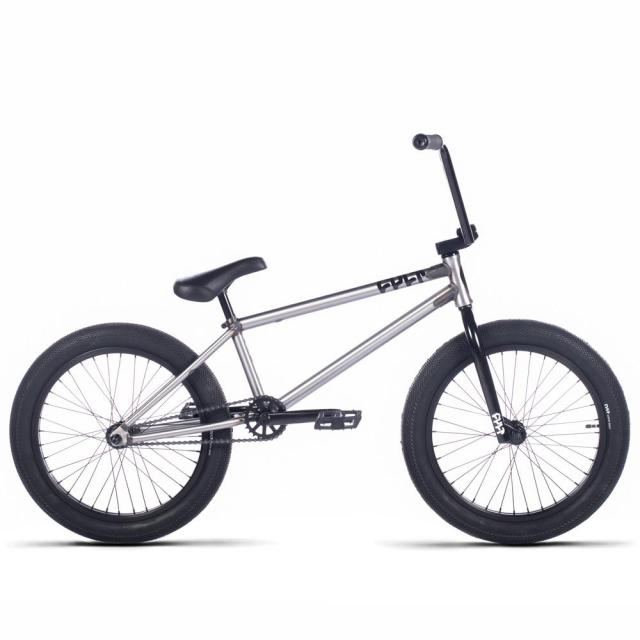bmx-bike: (11, 133, 628, 545)
